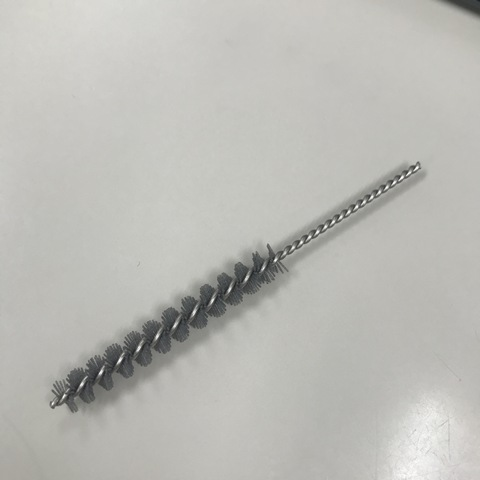Twist Brush-A: (48, 154, 424, 419)
